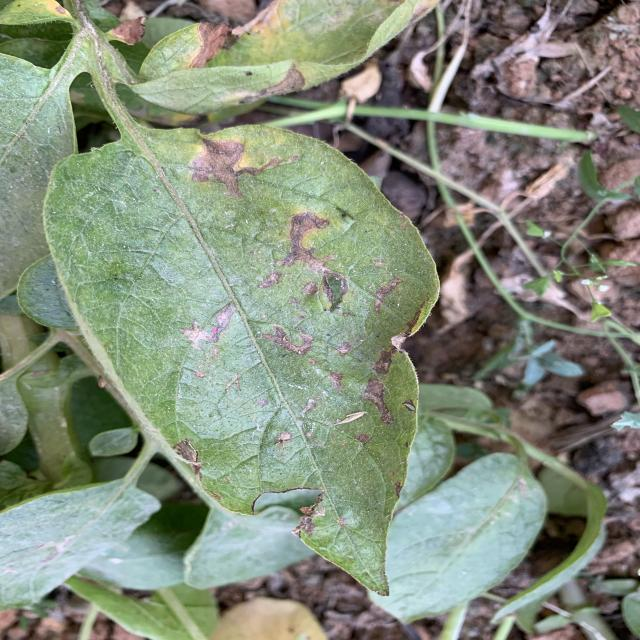lateblight: (190, 139, 283, 199), (277, 212, 337, 272), (180, 302, 237, 350), (363, 376, 395, 424), (262, 325, 313, 355), (173, 439, 203, 480), (225, 372, 242, 392), (275, 431, 292, 449), (330, 372, 342, 390), (380, 348, 393, 362), (193, 369, 207, 379), (342, 342, 352, 354), (377, 364, 388, 374), (337, 419, 352, 424), (257, 399, 268, 405), (305, 432, 312, 436)
